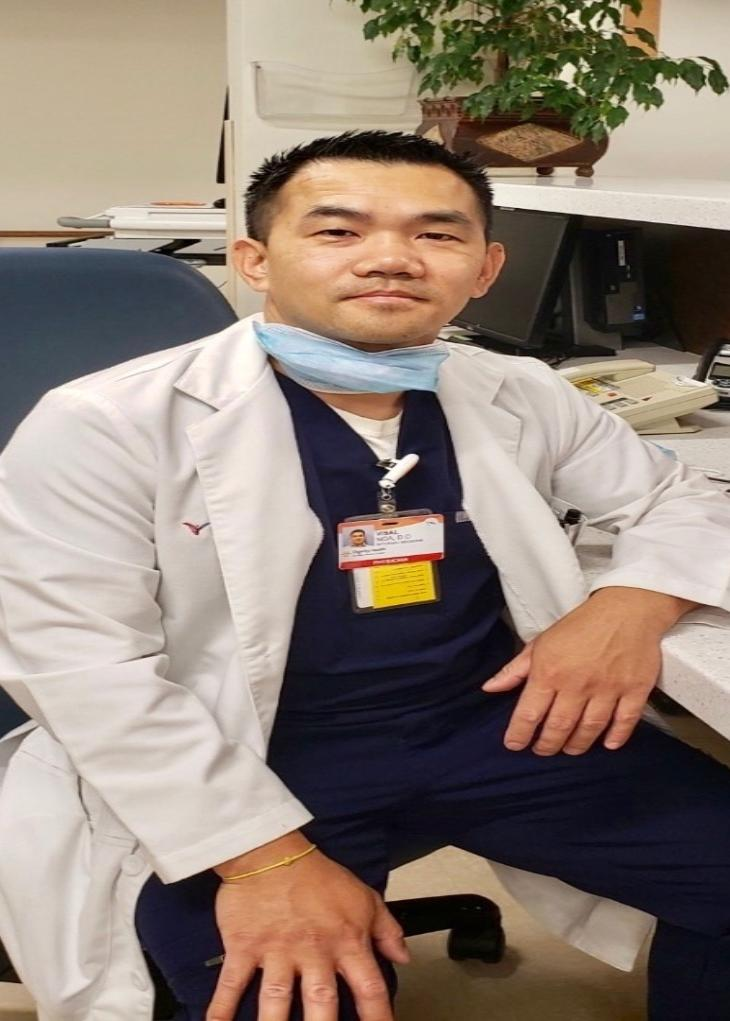mask_weared_incorrect: (231, 130, 500, 366)
